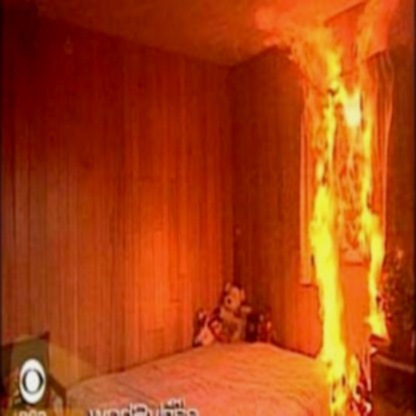fire: (265, 0, 409, 403)
